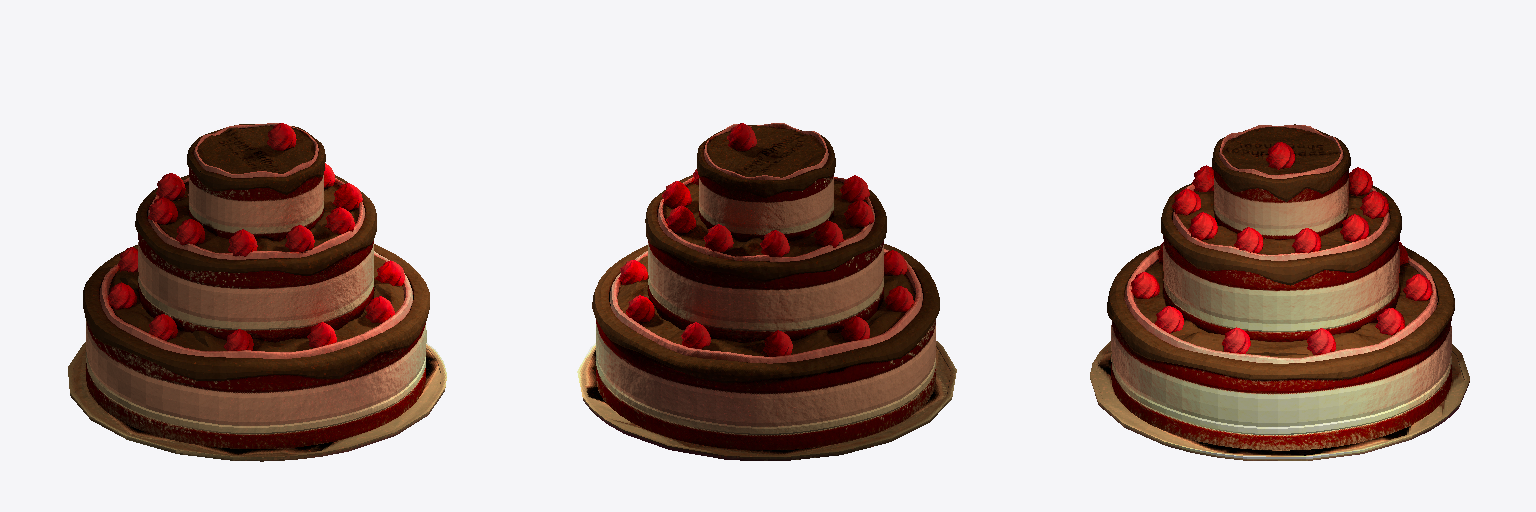
The picture shows the model from 3 angles: view 1: azimuth 30°, elevation 25°; view 2: azimuth 150°, elevation 25°; view 3: azimuth 270°, elevation 25°; orthographic projection.
Parts seen in each view (by area): view 1: cake1 group3 BedroomBakedTriExport; view 2: cake1 group3 BedroomBakedTriExport; view 3: cake1 group3 BedroomBakedTriExport.
Boxes of the visible parts, box(x1,y1,x2,y2) form: cake1 group3 BedroomBakedTriExport: box(68, 123, 446, 461); cake1 group3 BedroomBakedTriExport: box(577, 123, 956, 460); cake1 group3 BedroomBakedTriExport: box(1090, 124, 1469, 460).
Size of the model in its own units: 0.8094 by 0.5987 by 0.8132.
Materials: 1 (1 with a texture image).